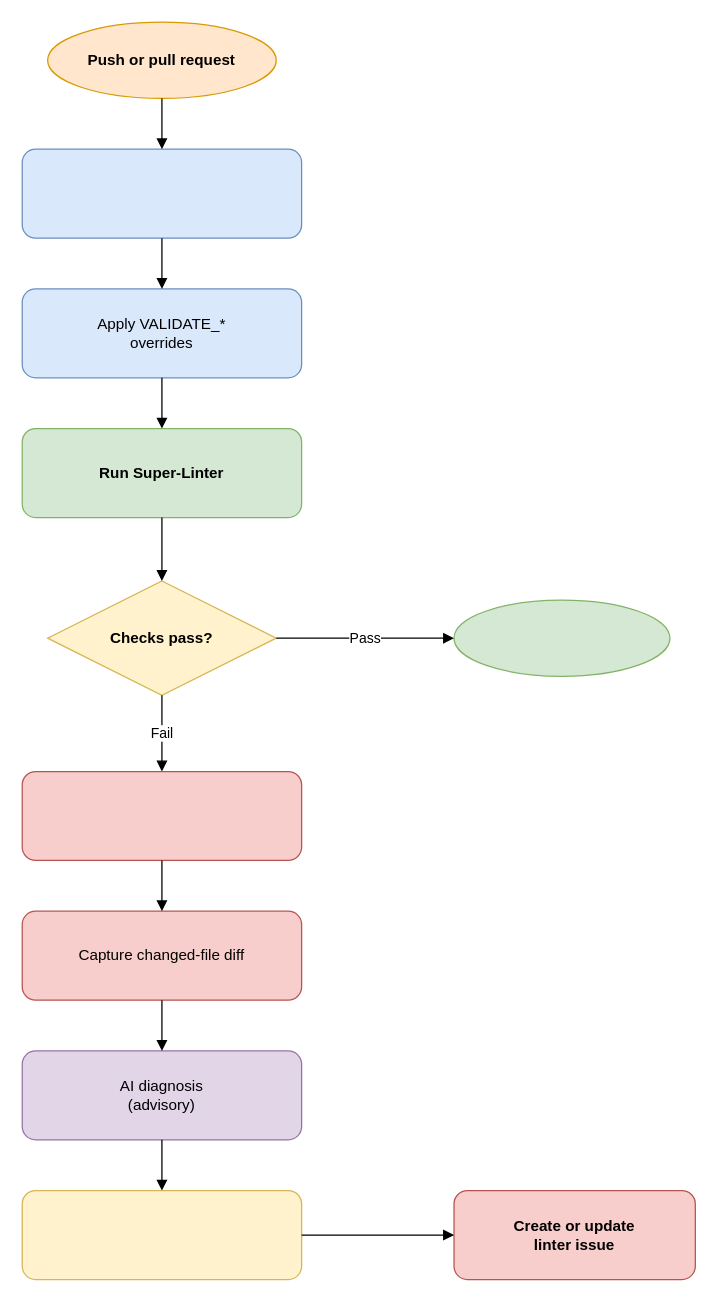
The diagram is 718 pixels wide and 1302 high, and some of its shapes have lost their labels. Each missing label, with the box of its shape:
Checkout caller repository (full history): (21, 148, 302, 238)
Collect structured diagnostics: (21, 770, 302, 860)
Human summary + machine-readable report: (21, 1189, 302, 1280)
Successful check: (453, 599, 670, 676)
